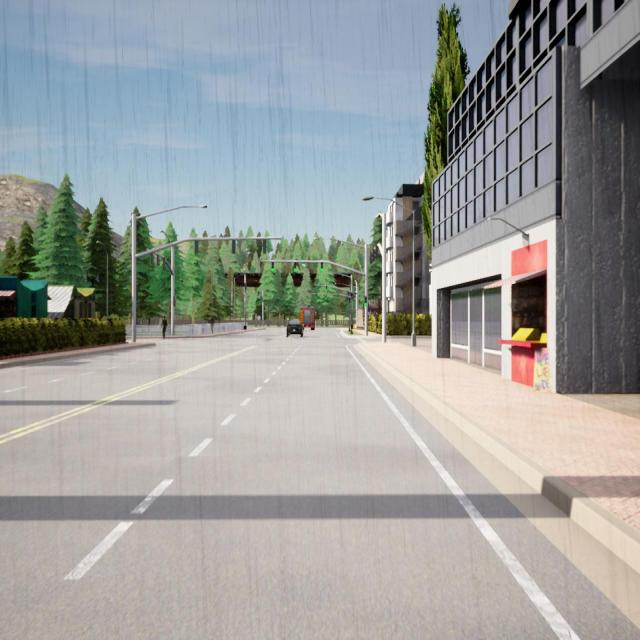Pedestrian: (162, 316, 168, 340), (210, 316, 215, 334)
Traffic_Signs: (257, 316, 261, 320)
Vehicle: (300, 306, 315, 331), (286, 320, 304, 338)
traffic_light: (263, 239, 266, 254), (195, 240, 198, 253), (232, 240, 235, 253), (372, 249, 375, 262), (369, 252, 372, 264), (157, 254, 160, 266), (375, 246, 378, 258), (163, 258, 166, 269), (293, 262, 296, 273), (173, 296, 176, 307), (151, 253, 154, 264), (321, 262, 324, 272), (364, 297, 367, 307), (272, 262, 274, 273), (325, 285, 328, 292), (325, 294, 328, 300), (337, 293, 339, 300), (316, 294, 318, 300)
